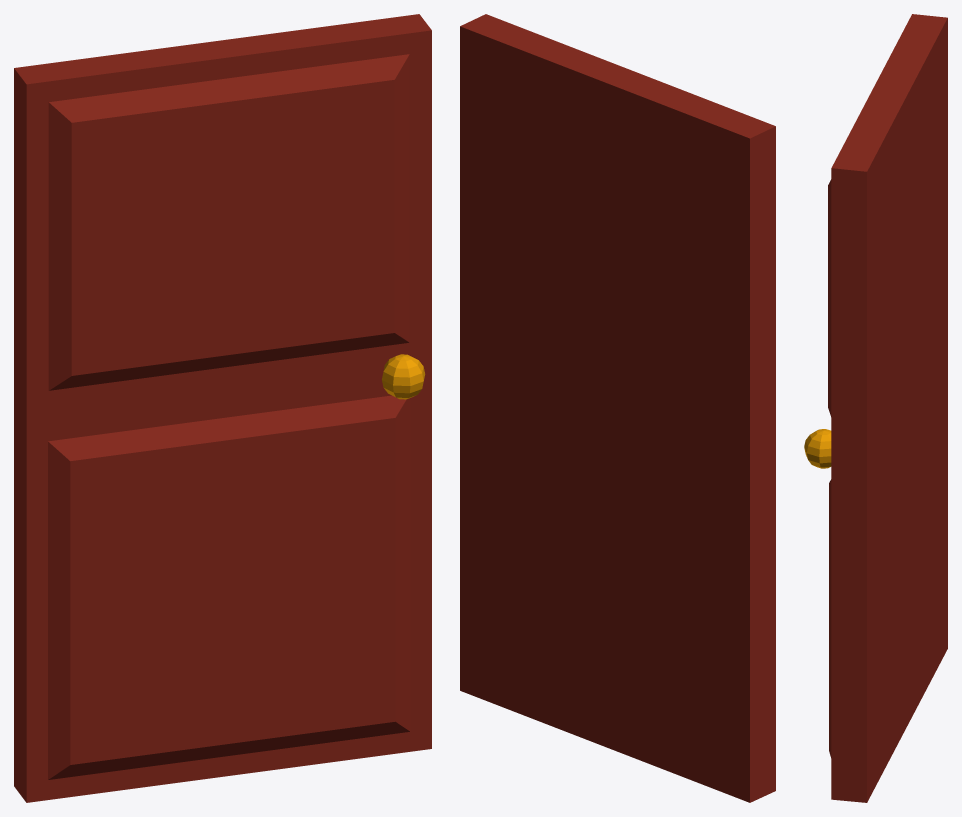
The model's file is Door.fbx.
3 views of the same model, side by side, from view 1: azimuth 30°, elevation 25°; view 2: azimuth 150°, elevation 25°; view 3: azimuth 270°, elevation 25° (orthographic). The views are drawn at different scales.
Parts seen in each view (by area): view 1: Door; view 2: Door; view 3: Door.
Part boxes in pixels (box(x1,y1,x2,y2)): Door: box(14, 14, 431, 802); Door: box(460, 14, 775, 802); Door: box(804, 14, 947, 802).
Size of the model in its own units: 4.77 by 8.92 by 1.84.
